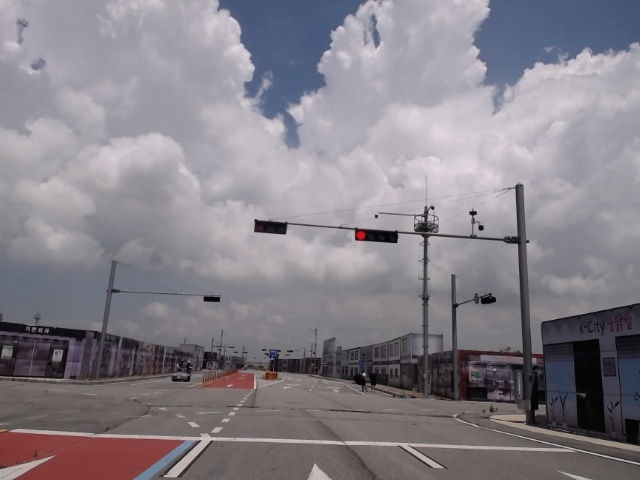red_4: (355, 230, 397, 243)
